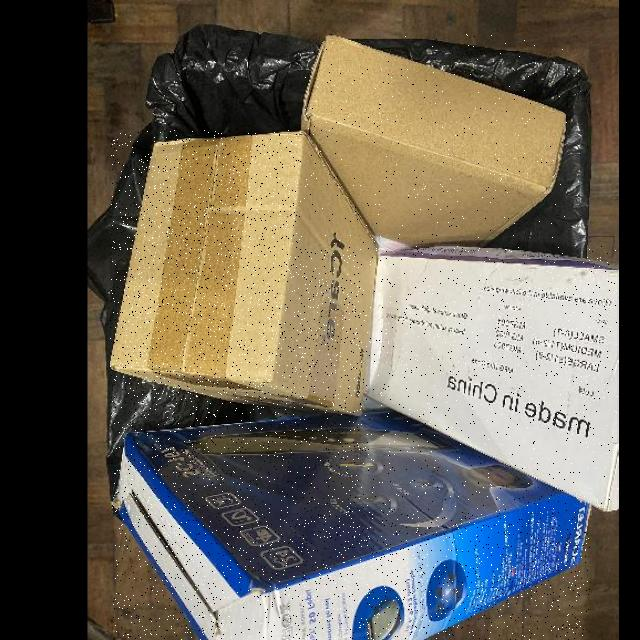paper: (113, 402, 591, 640), (110, 130, 380, 415), (364, 245, 618, 511), (302, 34, 569, 246)
